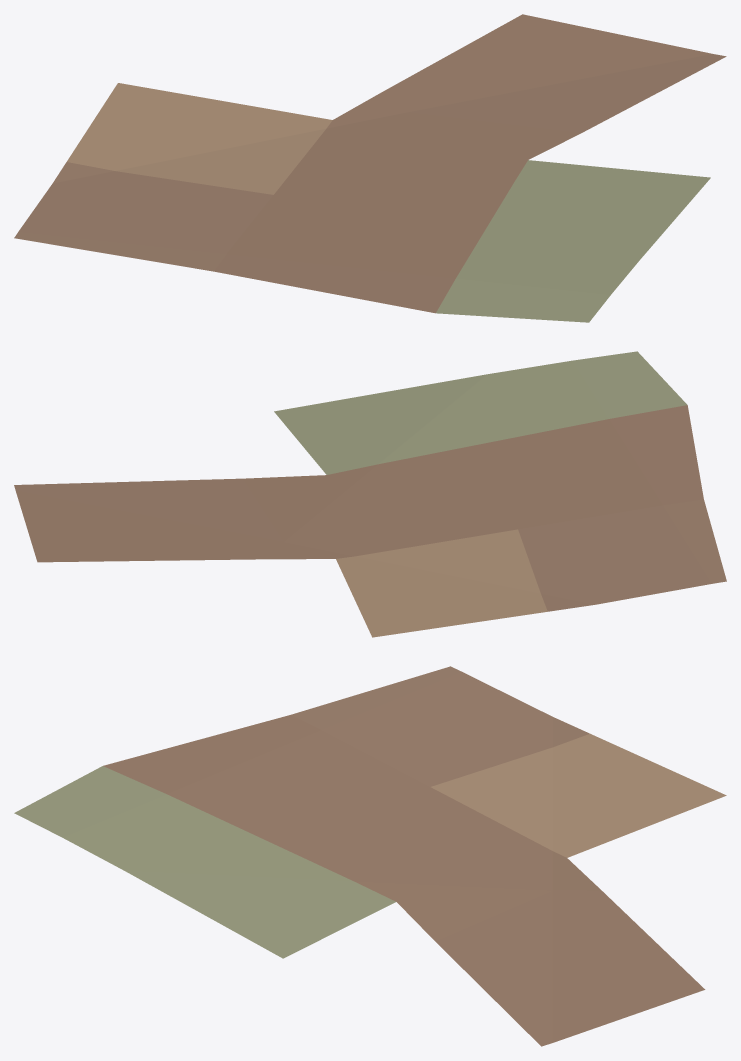
Rendered from farm_19_23_soil.glb.
The picture shows the model from 3 angles, top to bottom: view 1: azimuth 30°, elevation 25°; view 2: azimuth 150°, elevation 25°; view 3: azimuth 270°, elevation 25°; orthographic projection. The views are drawn at different scales.
Parts seen in each view (by area): view 1: geometry_0; view 2: geometry_0; view 3: geometry_0.
Boxes of the visible parts, bbox=[...] form: geometry_0: bbox=[14, 14, 726, 322]; geometry_0: bbox=[14, 351, 726, 637]; geometry_0: bbox=[14, 666, 726, 1046].
Size of the model in its own units: 117 by 6.77 by 102.
